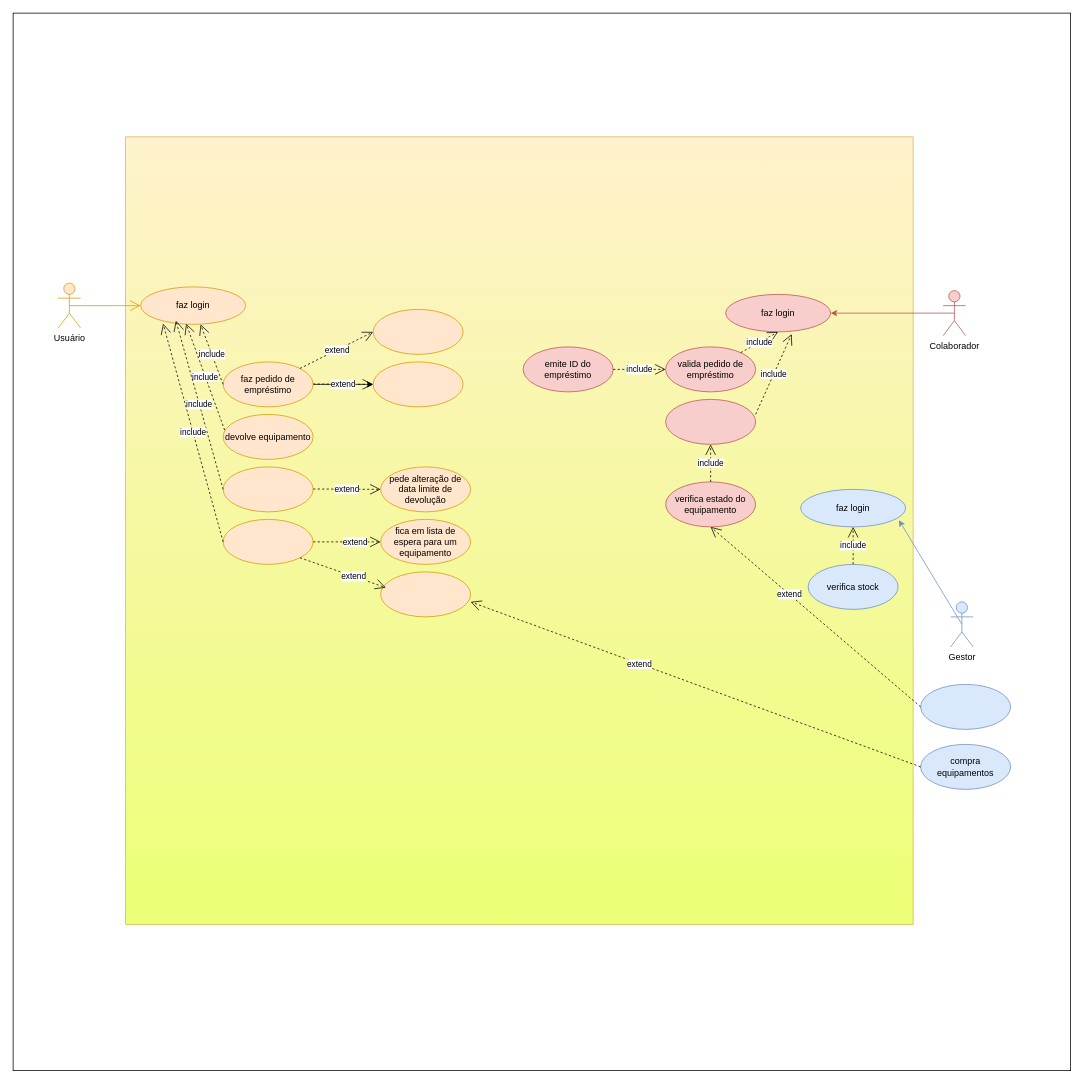
The diagram is 1084 pixels wide and 1084 high, and some of its shapes have lost their labels. The centre of each missing label's shape, as x and y in pixels:
cancela pedido: (417,384)
consulta datas: (267,489)
consulta equipamentos disponíveis: (267,541)
contacta fornecedor: (965,706)
escolhe retirada no local ou entrega: (417,331)
sugere um equipamento novo em um formulário: (425,594)
valida devolução do equipamento: (710,421)
